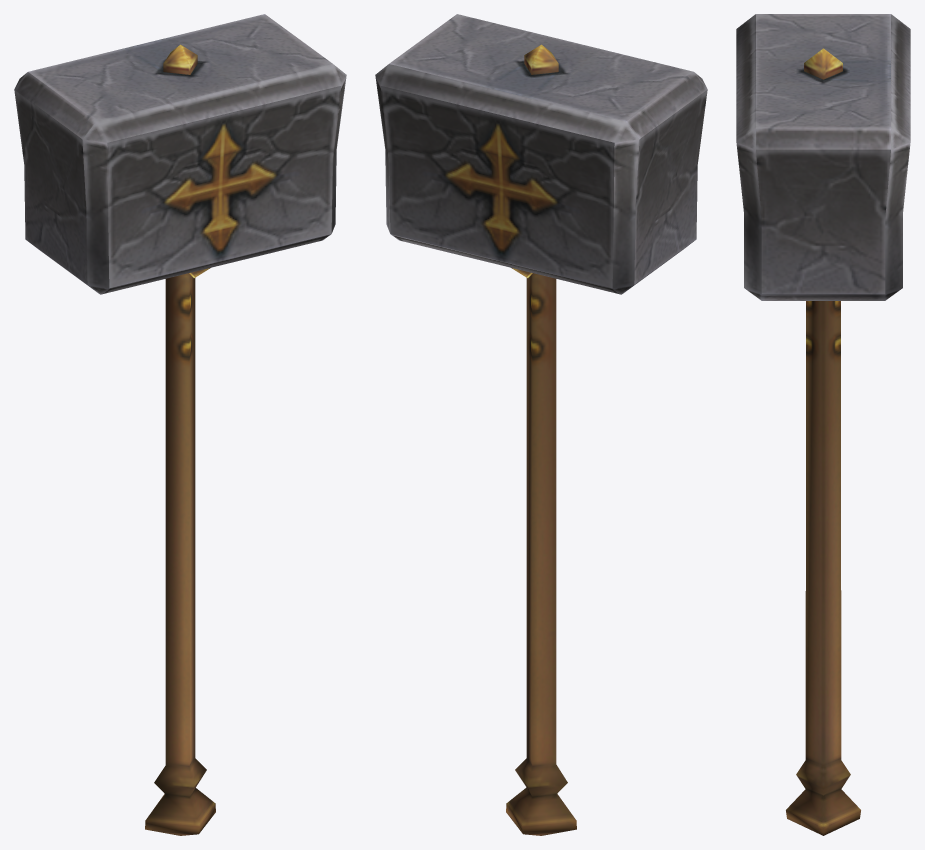
Rendered from TH_Mace17.FBX.
The picture shows the model from 3 angles, left to right: view 1: azimuth 30°, elevation 25°; view 2: azimuth 150°, elevation 25°; view 3: azimuth 270°, elevation 25°; orthographic projection.
Visible parts, largest first — view 1: TH_Mace17; view 2: TH_Mace17; view 3: TH_Mace17.
Boxes of the visible parts, x1,y1,x2,y2 form: TH_Mace17: [14, 14, 346, 835]; TH_Mace17: [375, 14, 707, 835]; TH_Mace17: [736, 14, 910, 835].
Bounding box in the file's own units: 42.46 × 122 × 24.42.
